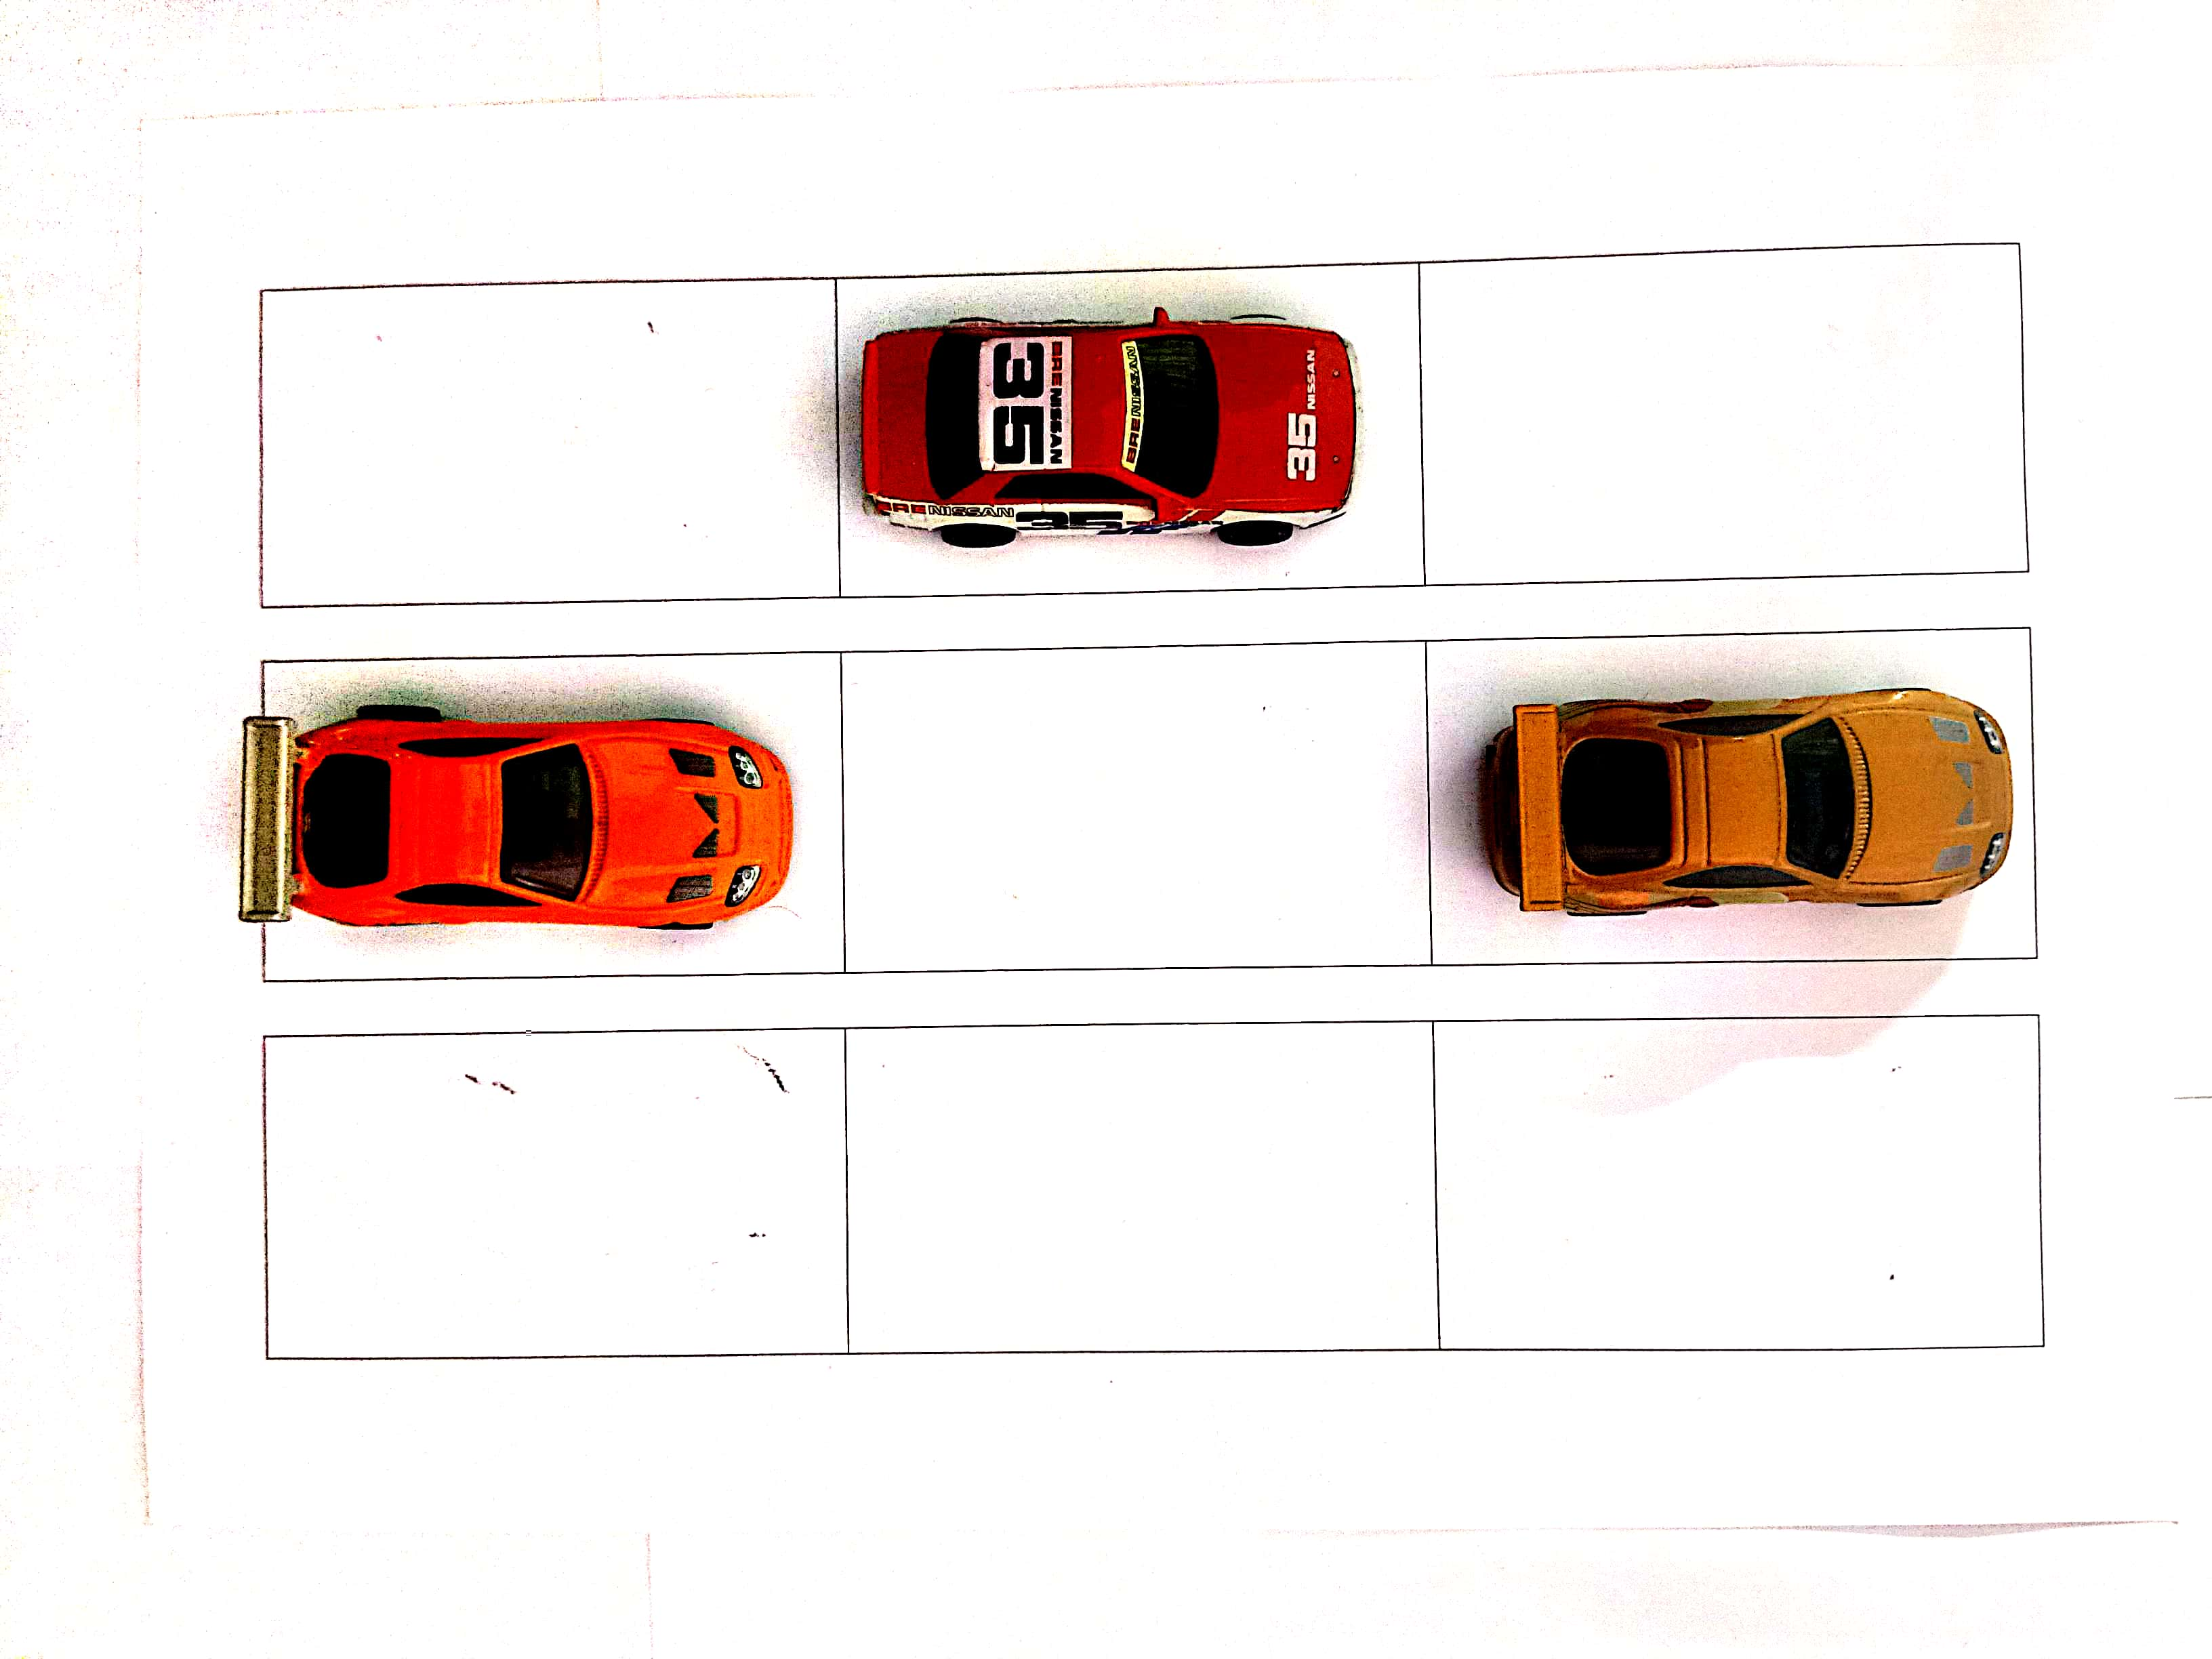Busy: (1421, 648, 2038, 971), (840, 277, 1432, 594), (263, 655, 838, 967)
Free: (1432, 244, 2026, 575), (260, 277, 843, 610), (1439, 1025, 2041, 1342), (848, 643, 1428, 971), (859, 1025, 1437, 1342), (268, 1040, 848, 1345)
